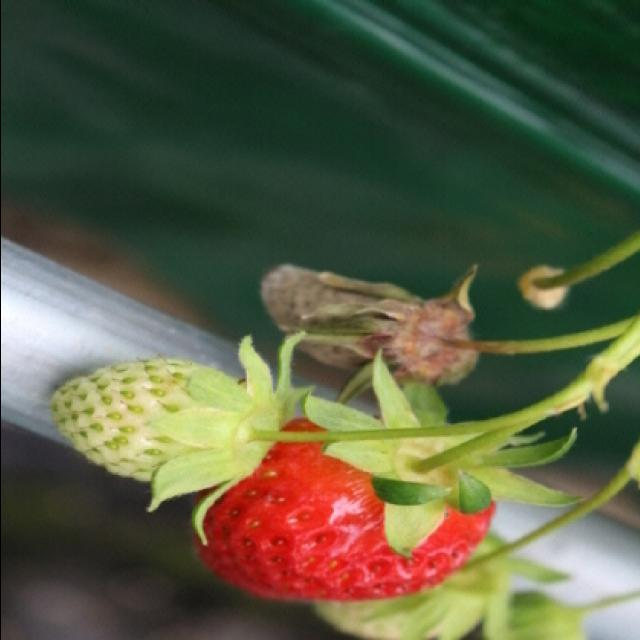Gray Mold: (257, 261, 491, 406)
